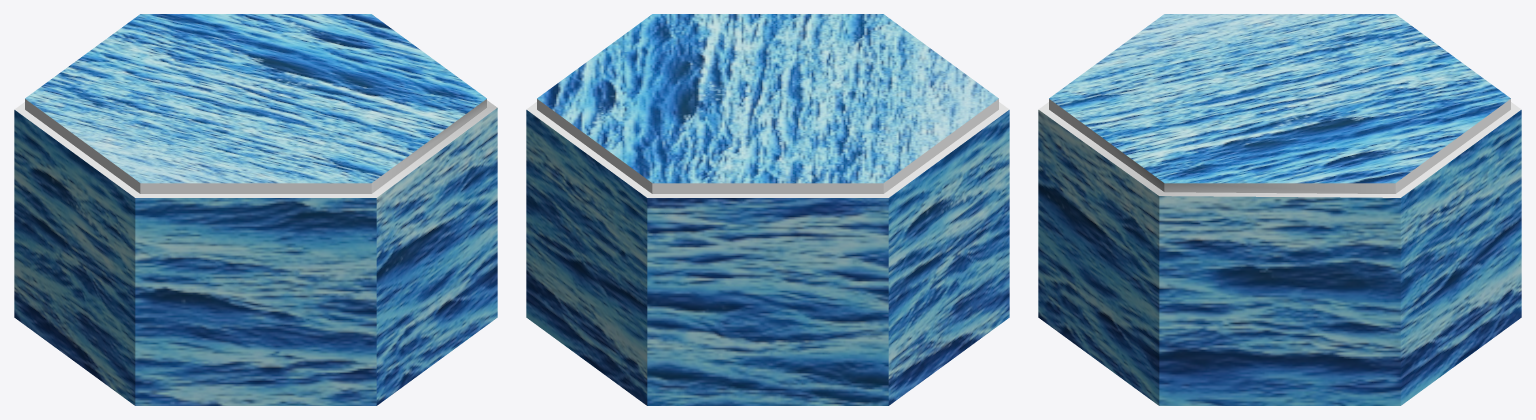
The model's file is WaterHexagon.fbx.
3 renders of one model, left to right at view 1: azimuth 30°, elevation 25°; view 2: azimuth 150°, elevation 25°; view 3: azimuth 270°, elevation 25°, orthographic.
Parts seen in each view (by area): view 1: Cylinder; view 2: Cylinder; view 3: Cylinder.
Part boxes in pixels (x1,y1,x2,y2): Cylinder: (14, 14, 497, 405); Cylinder: (526, 14, 1009, 405); Cylinder: (1038, 14, 1521, 405).
Size of the model in its own units: 173 by 100 by 200.
